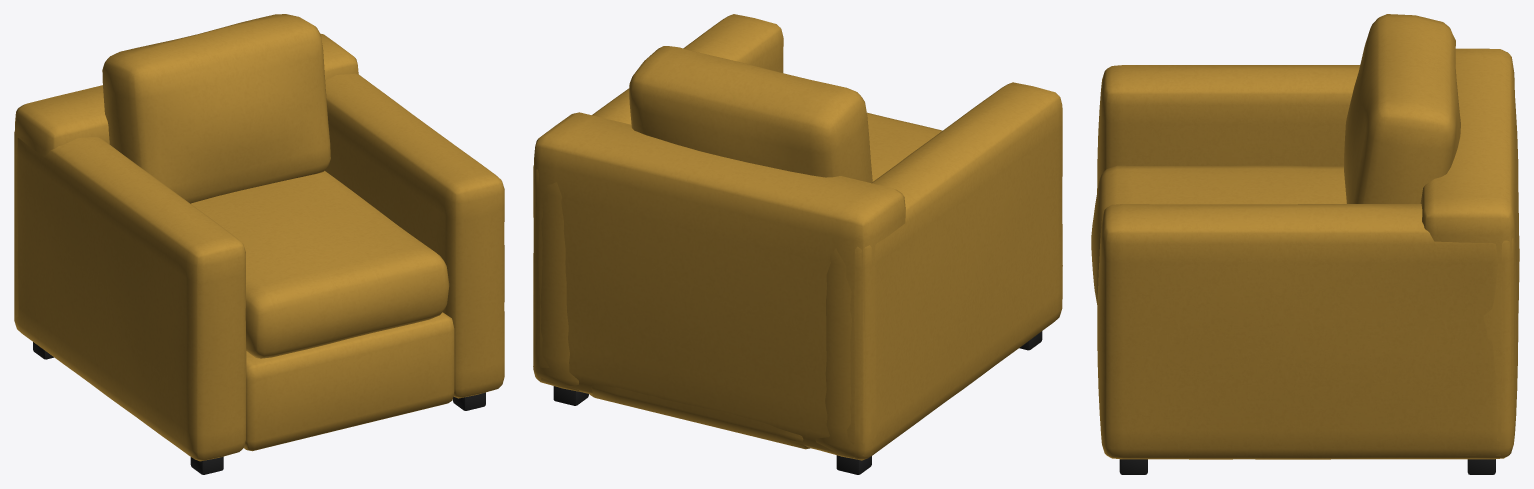
The model's file is butaca_tapizada_mostaza.glb.
The picture shows the model from 3 angles, left to right: view 1: azimuth 30°, elevation 25°; view 2: azimuth 150°, elevation 25°; view 3: azimuth 270°, elevation 25°; orthographic projection. The views are drawn at different scales.
Parts seen in each view (by area): view 1: butaca_tapizada_mostaza; view 2: butaca_tapizada_mostaza; view 3: butaca_tapizada_mostaza.
Boxes of the visible parts, box(x1,y1,x2,y2) form: butaca_tapizada_mostaza: box(14, 14, 504, 474); butaca_tapizada_mostaza: box(533, 14, 1062, 474); butaca_tapizada_mostaza: box(1091, 14, 1519, 474).
Bounding box in the file's own units: 0.8628 × 0.8059 × 0.911.
2 materials, 1 textured.
